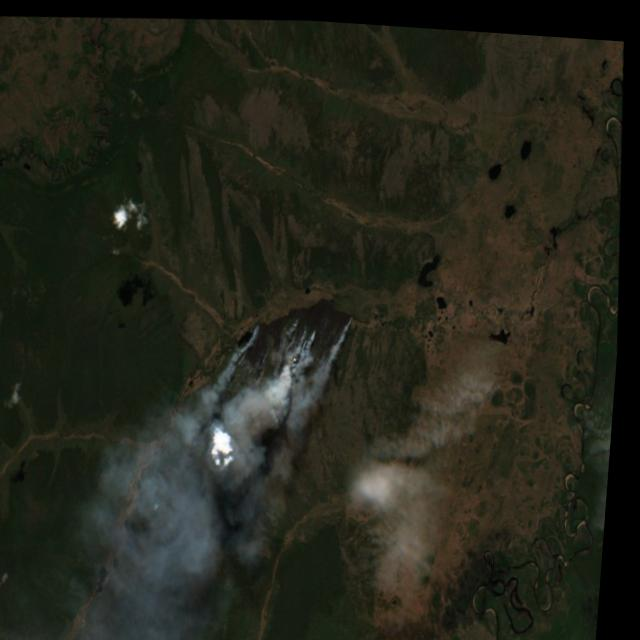fire: (237, 296, 364, 383)
